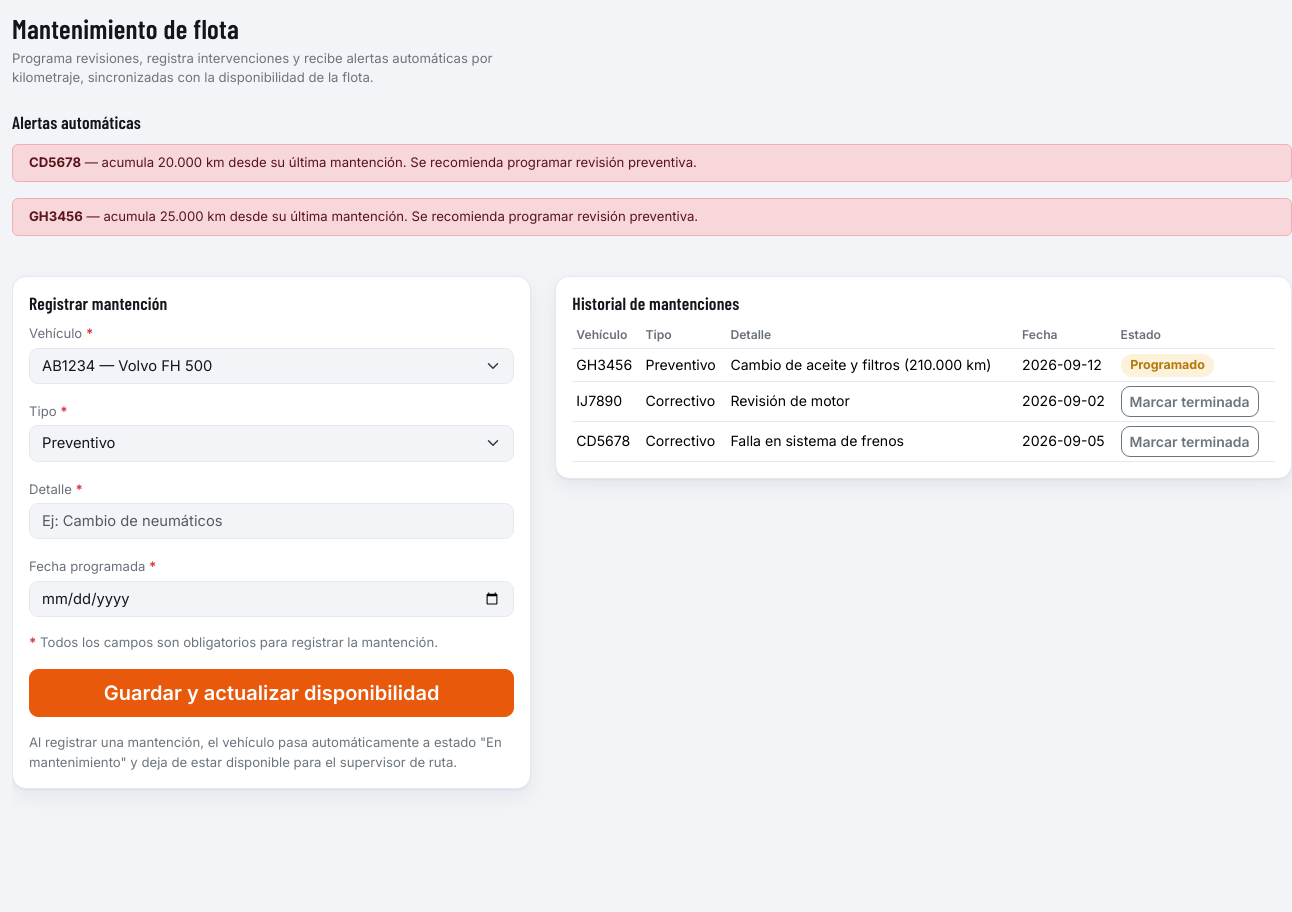
Test: MantenimientoView › registra una mantención y la agrega al historial
The width and height of the screenshot is (1292, 912).
In the field labelled "Detalle *": (272, 521) 29,503 -> 514,539, type "Cambio de neumáticos"
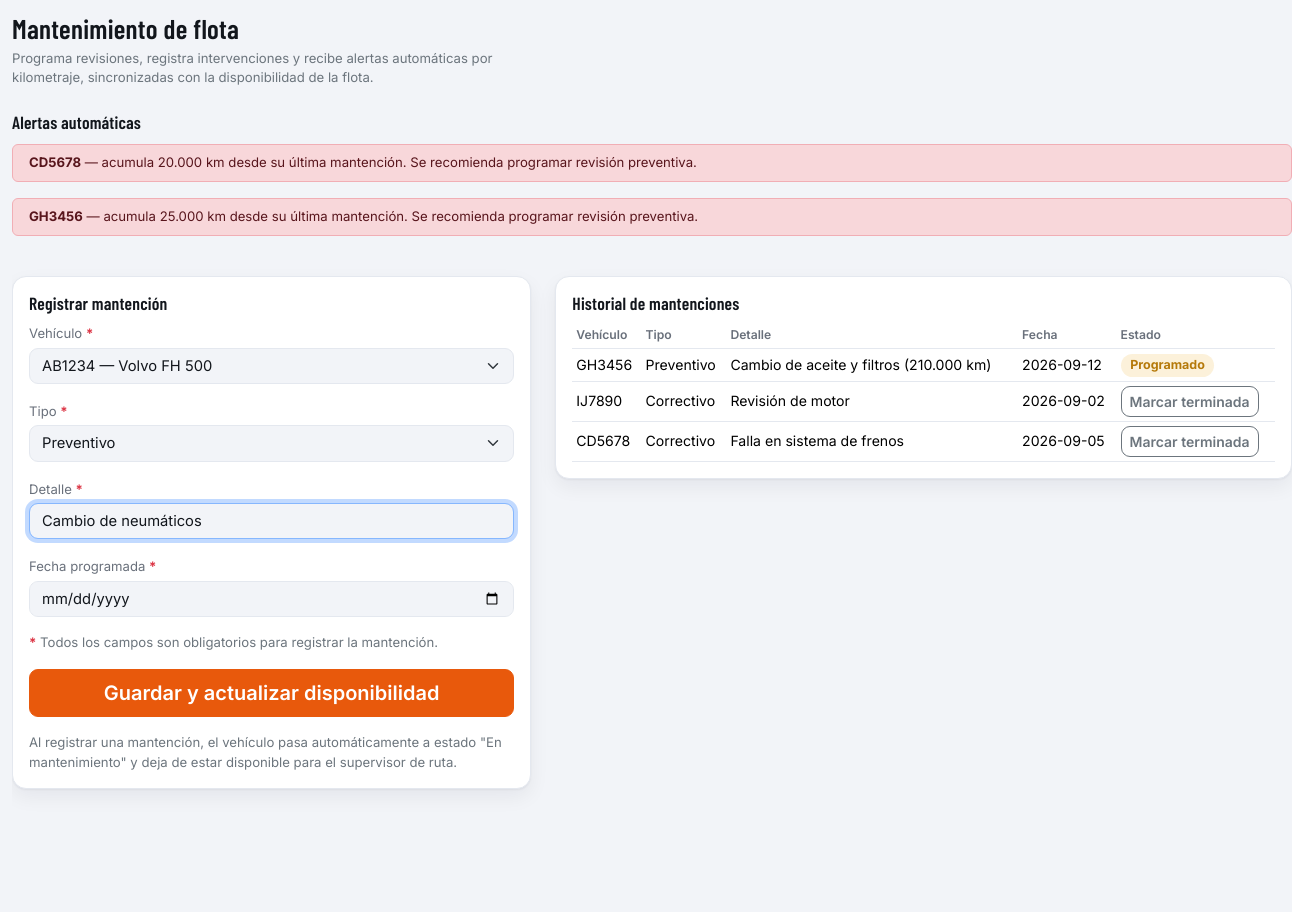
In the date field labelled "Fecha programada *": (272, 599) 29,581 -> 514,617, type "2026-10-30"
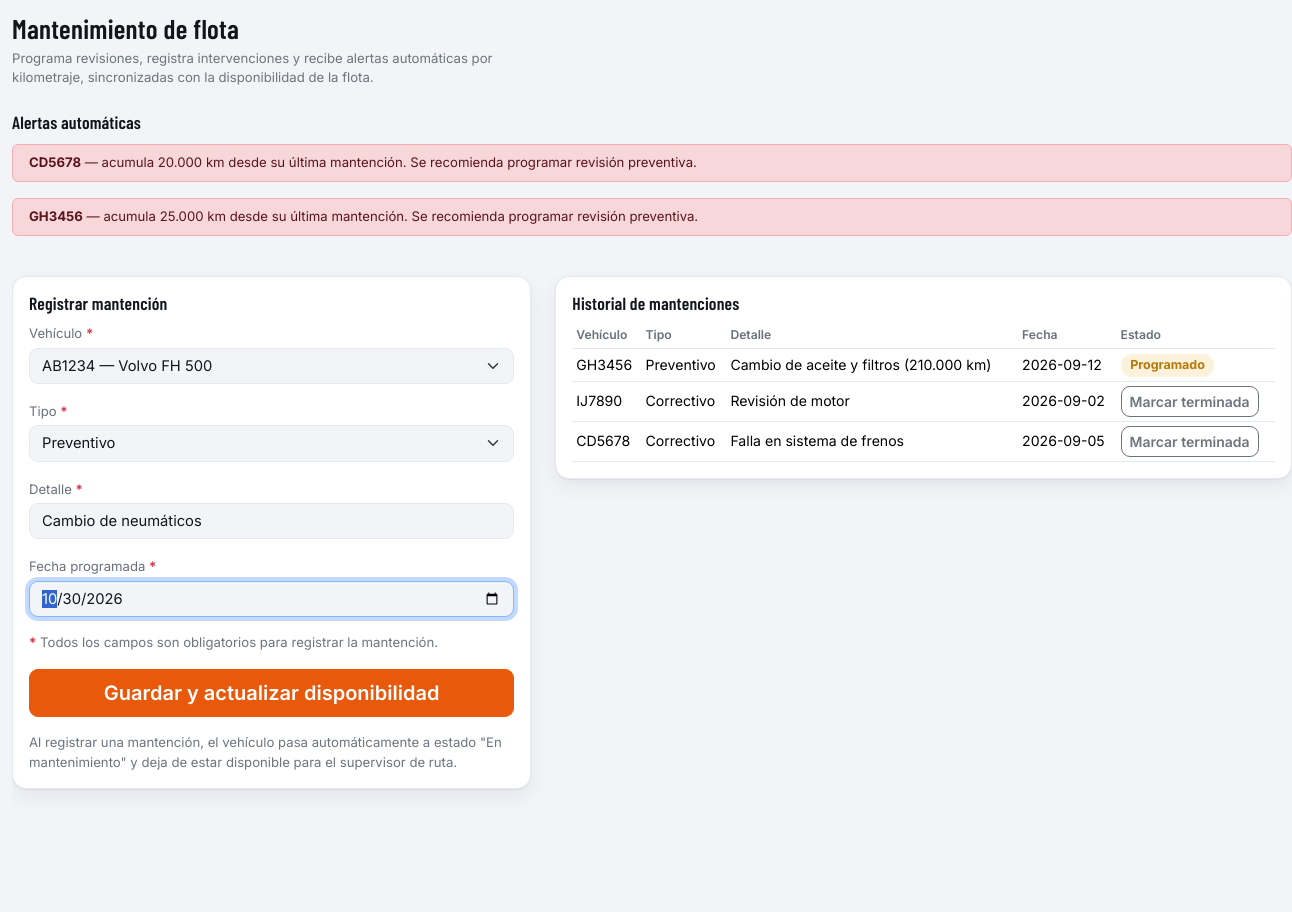
Click the button "Guardar y actualizar disponibilidad": (272, 693) 29,669 -> 514,717
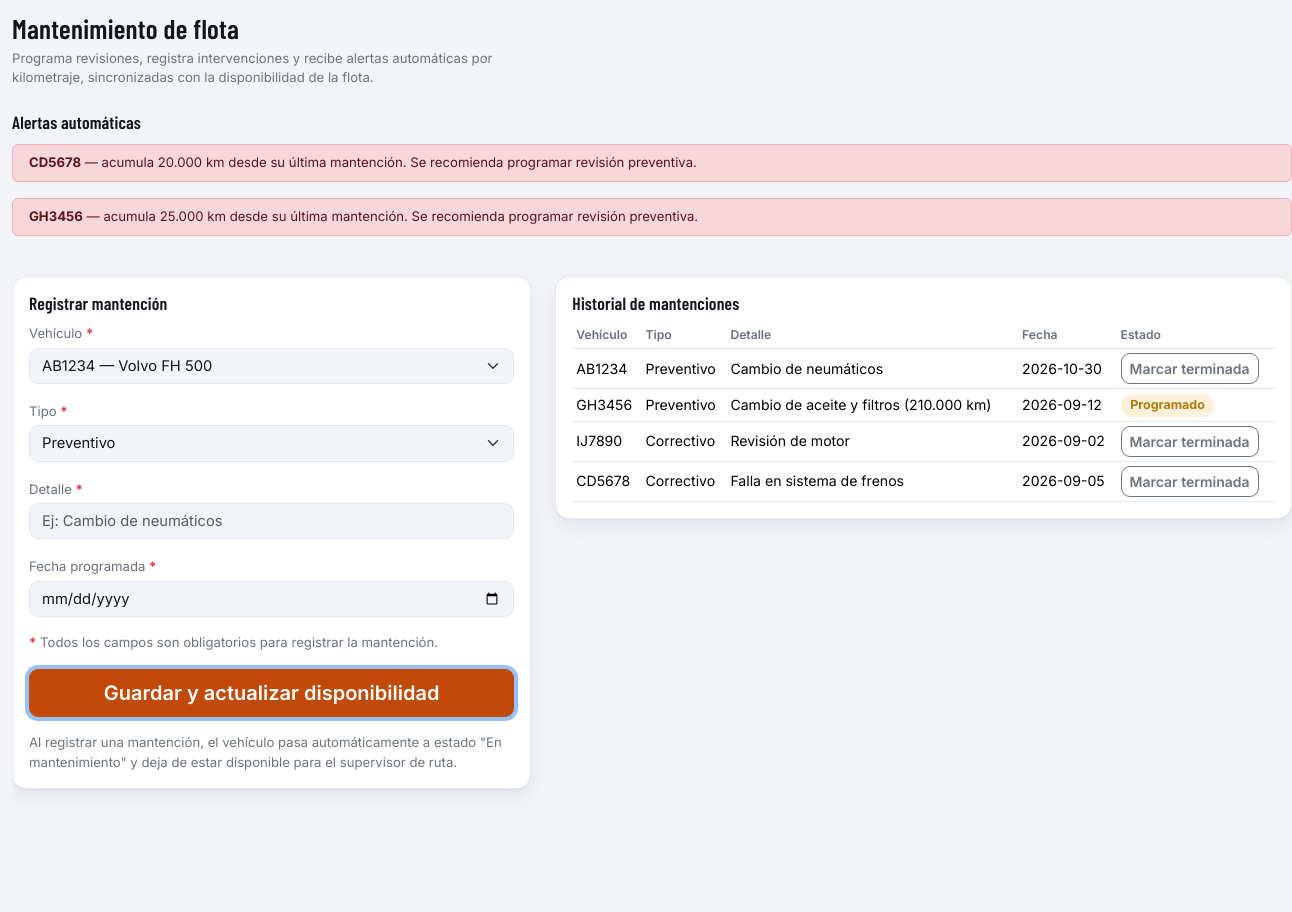
Check: the text "Cambio de neumáticos" is shown, box 726,349 -> 1018,389
Check: the field labelled "Detalle *" is empty, box 29,503 -> 514,539
